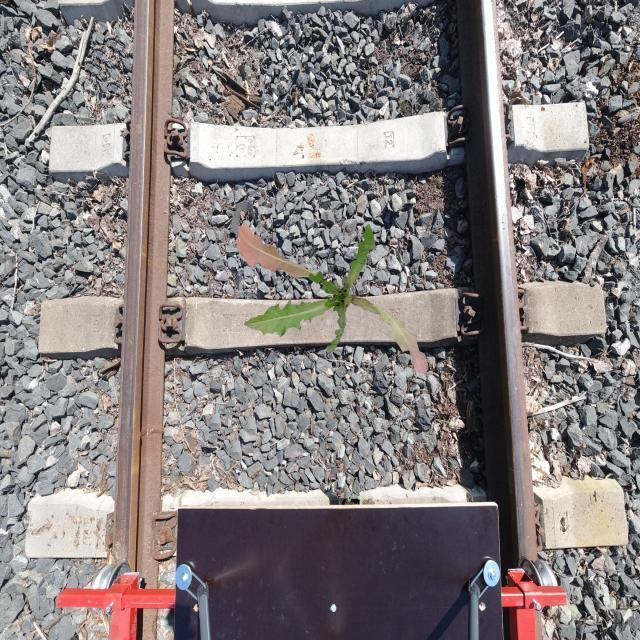Plant: (236, 223, 428, 375)
